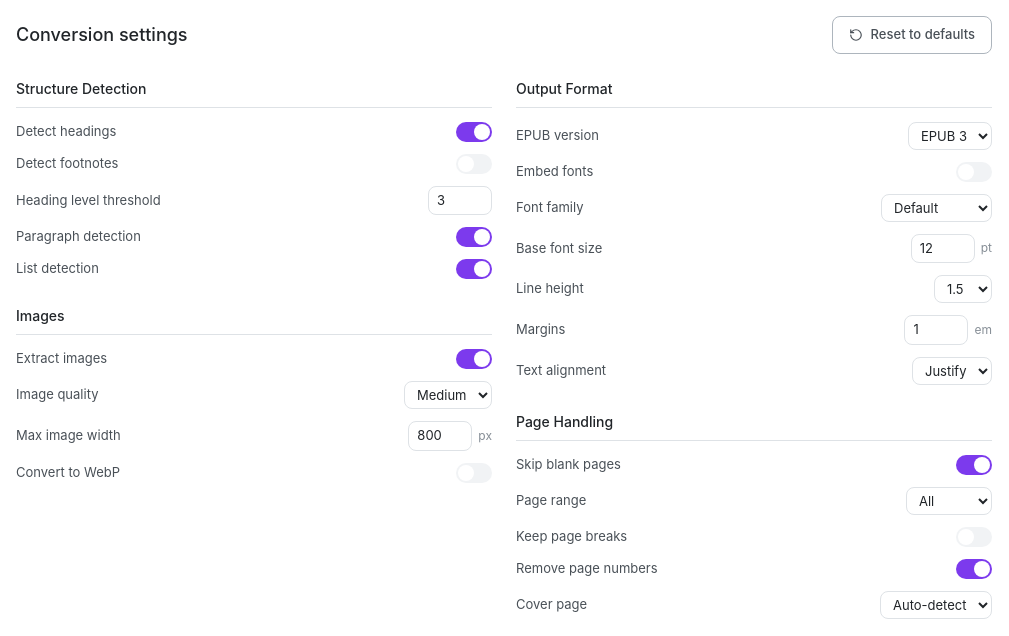
Test: SettingsScreen › disabling "Extract images" disables image sub-settings
The width and height of the screenshot is (1009, 636).
Click the switch named "Extract images": click(474, 359) 456,349 -> 492,369
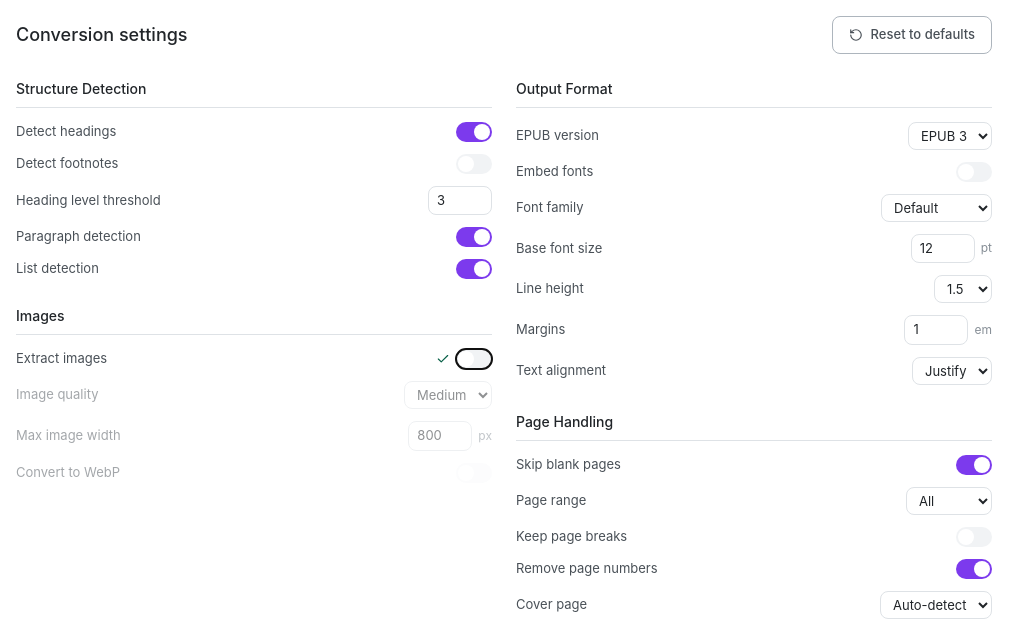
Check: the dropdown showing "Medium" in the row of "Image quality" is disabled, box 404,381 -> 492,409
